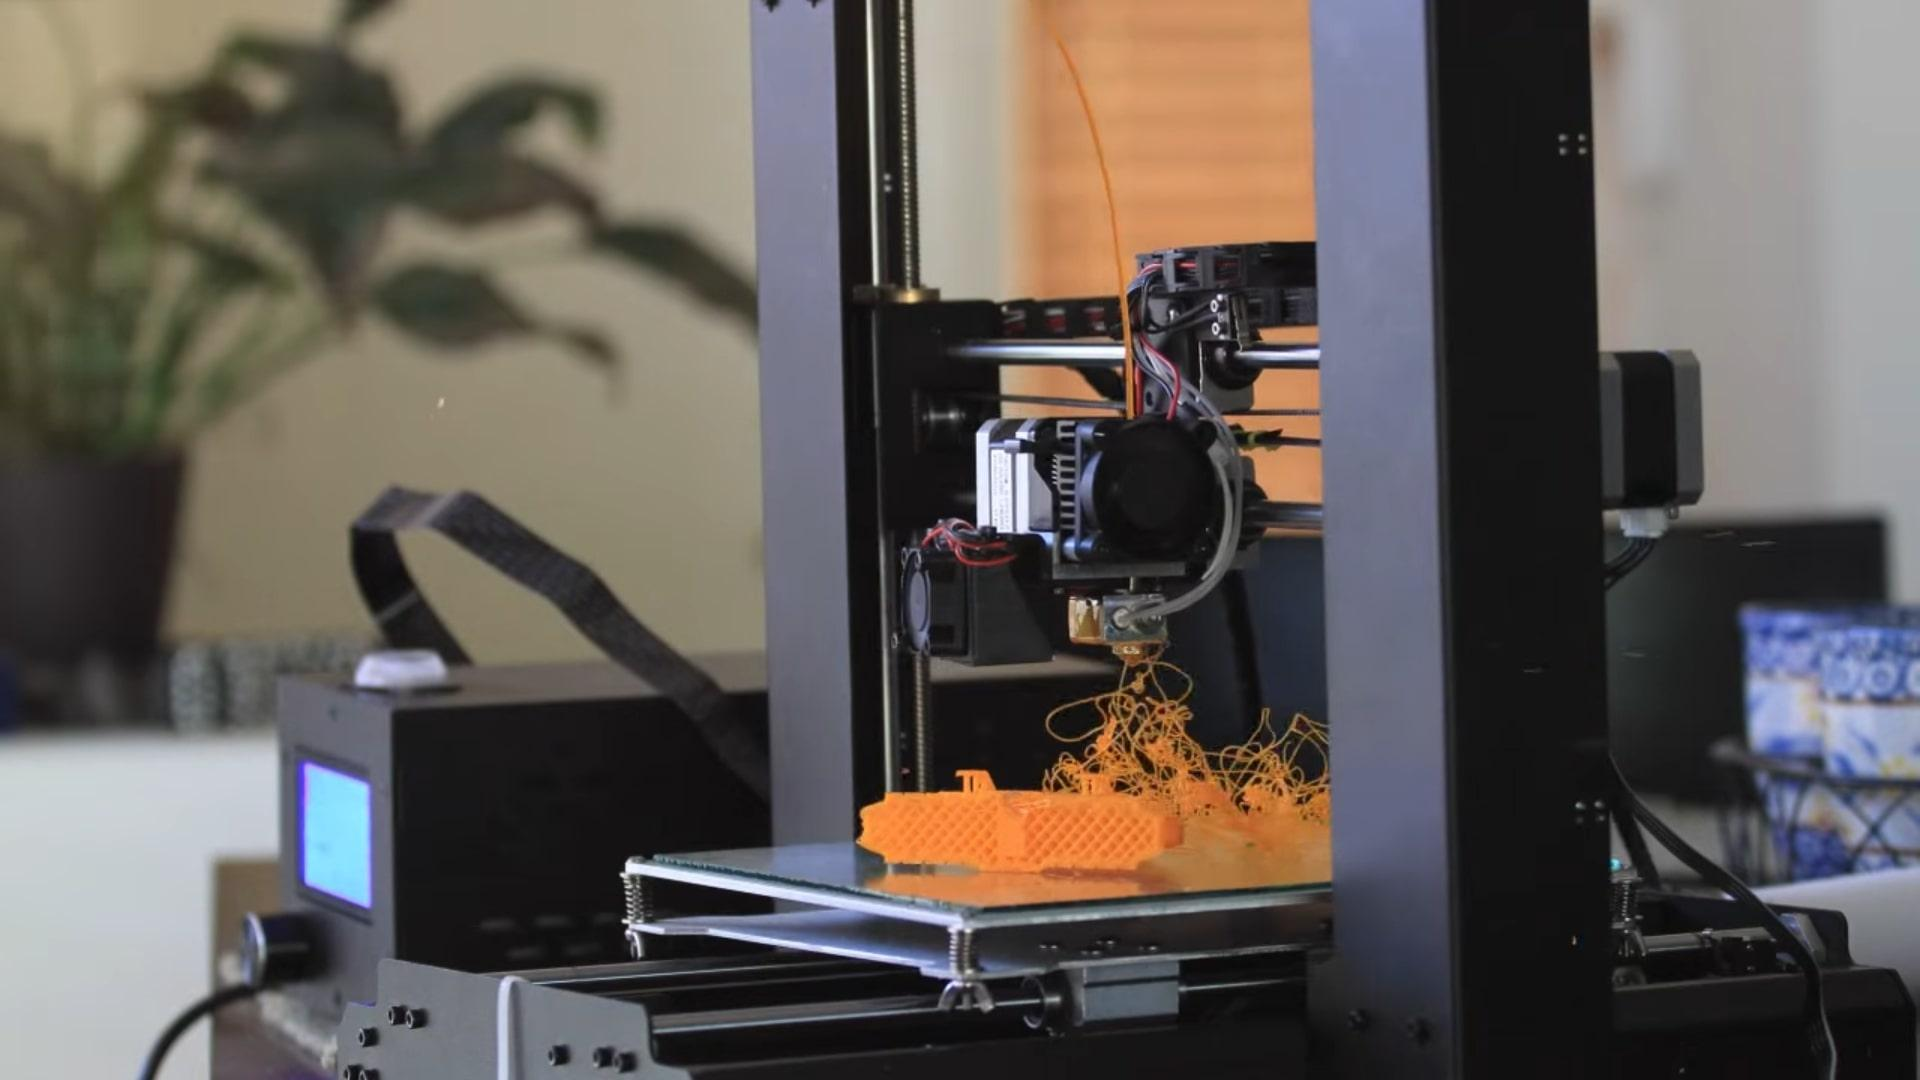Printing-Artifact: (1052, 662, 1333, 828)
